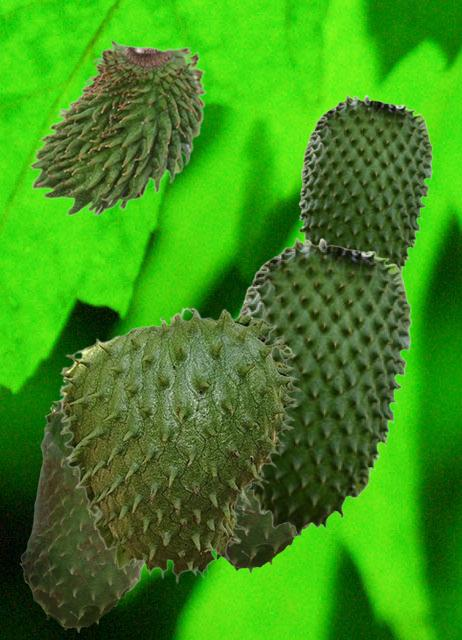guyabano: (59, 306, 301, 583), (238, 237, 411, 535), (28, 37, 206, 215), (19, 399, 143, 631), (298, 94, 432, 272), (216, 488, 310, 572)
